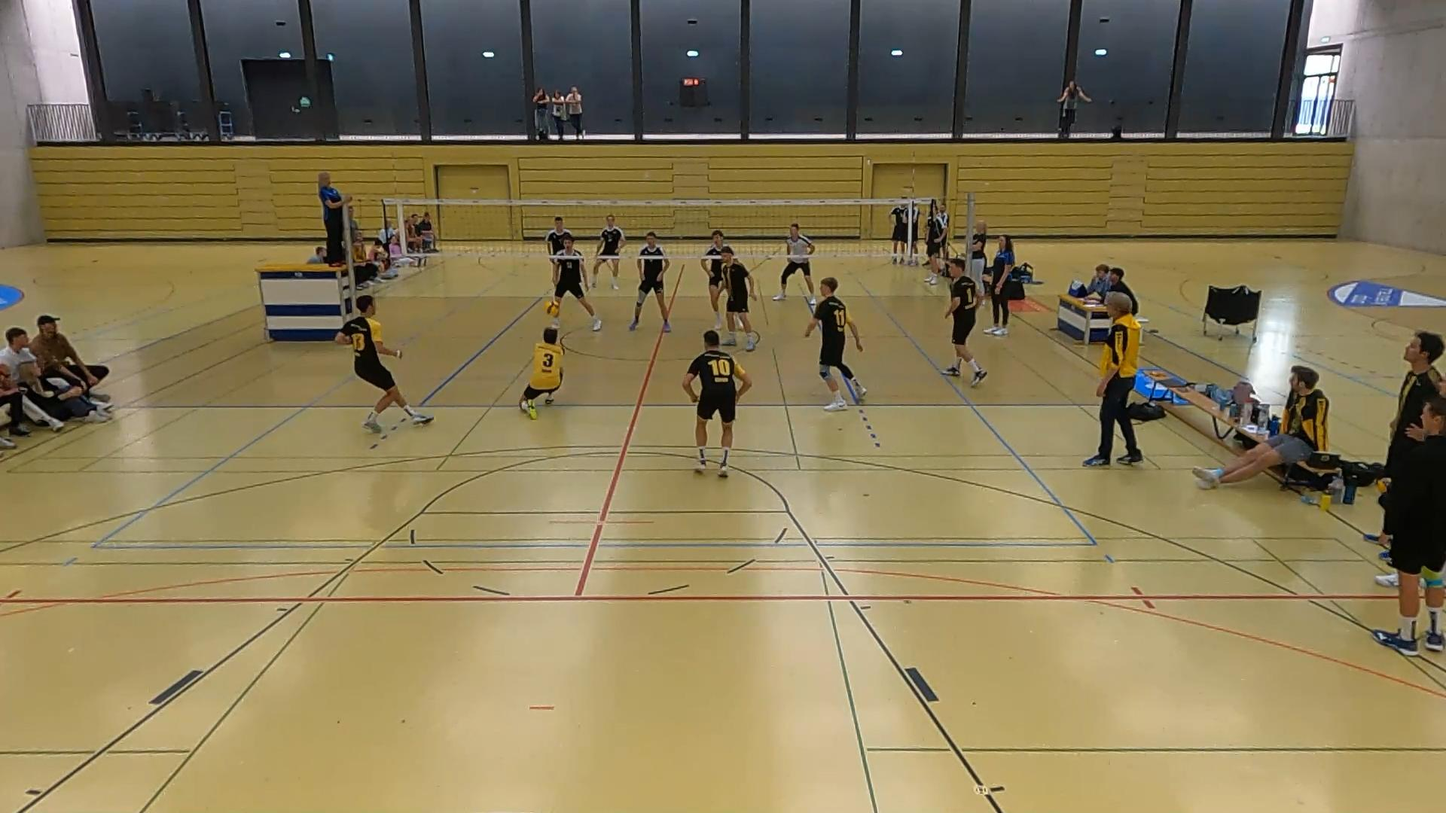Player: (334, 295, 433, 431), (682, 330, 751, 477), (804, 277, 866, 411), (942, 257, 987, 385), (552, 234, 601, 330), (628, 231, 670, 332), (721, 245, 758, 351), (773, 224, 816, 306), (590, 215, 626, 290), (700, 230, 723, 329), (546, 216, 572, 284)
Receive: (512, 295, 569, 424)
ball: (544, 296, 559, 319)
